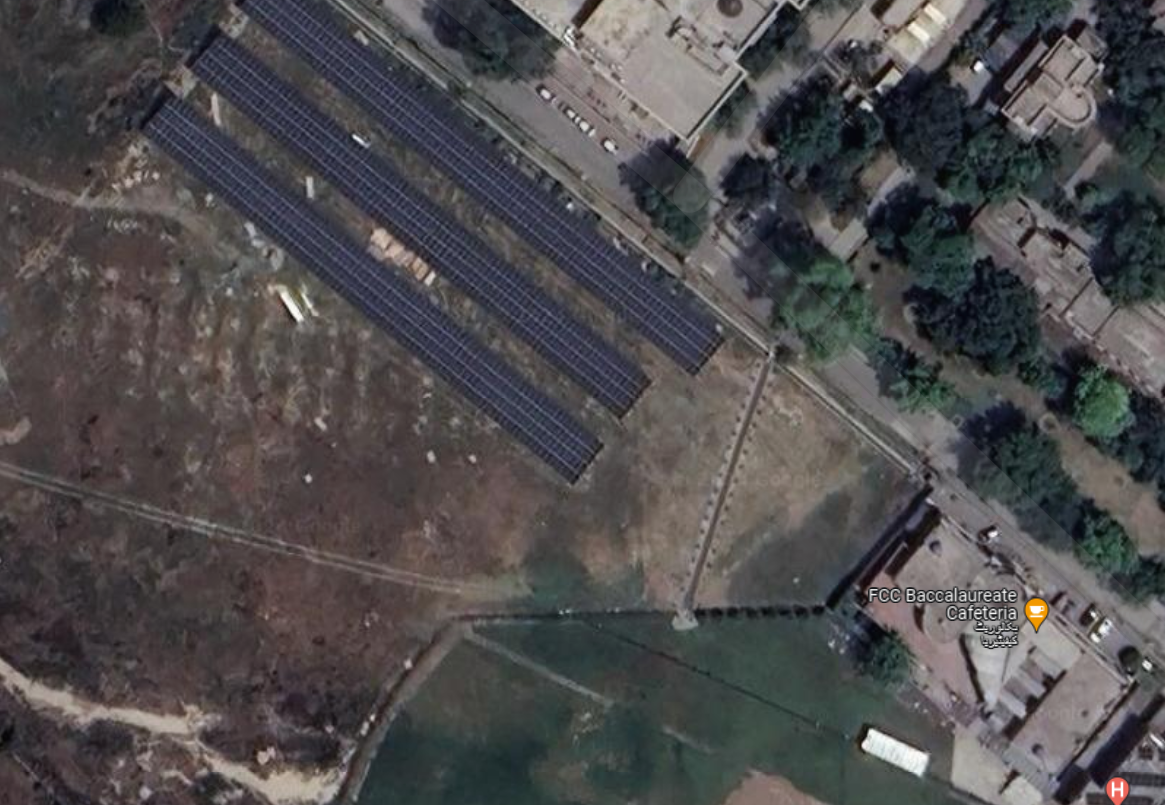solar-panel: (117, 1, 753, 494)
